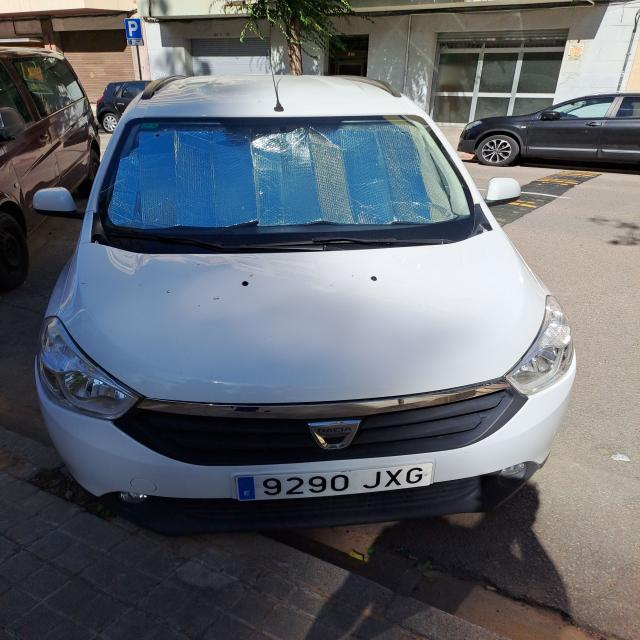license_plate-34Td: (235, 462, 435, 500)
